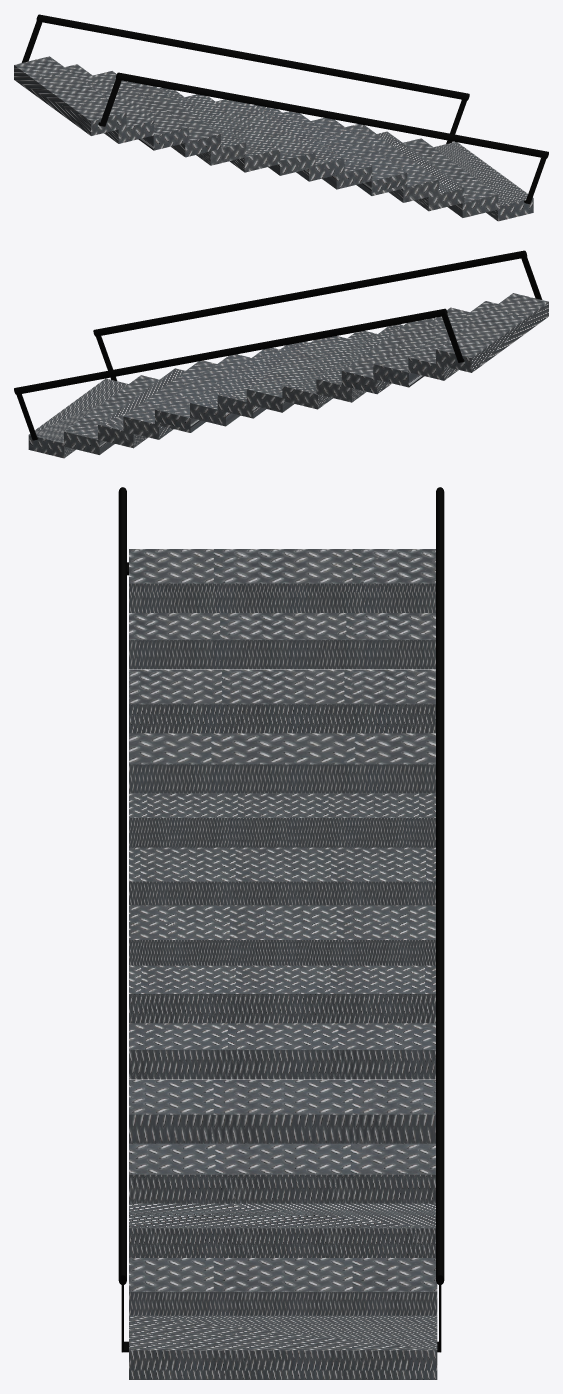
The model's file is stairs.fbx.
3 renders of one model, top to bottom at view 1: azimuth 30°, elevation 25°; view 2: azimuth 150°, elevation 25°; view 3: azimuth 270°, elevation 25°, orthographic. The views are drawn at different scales.
Visible parts, largest first — view 1: pCube16; view 2: pCube16; view 3: pCube16.
Part boxes in pixels (x1,y1,x2,y2): pCube16: [14, 14, 548, 221]; pCube16: [14, 250, 548, 458]; pCube16: [118, 487, 444, 1379].
Bounding box in the file's own units: 91.52 × 46.61 × 28.29.
